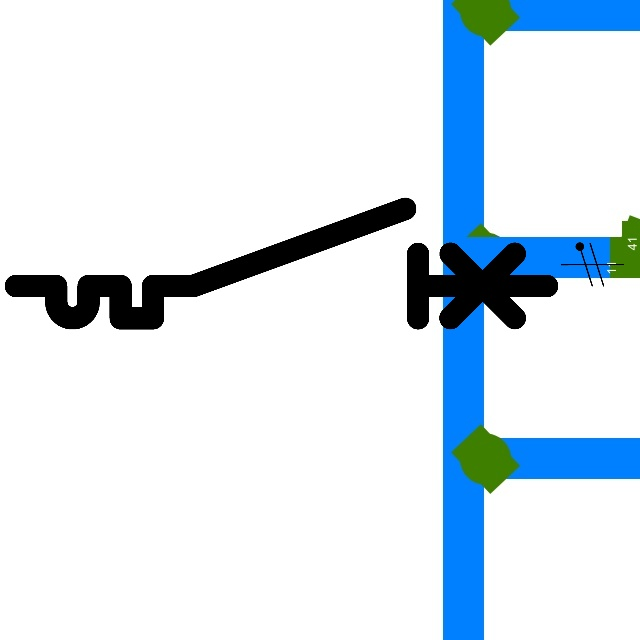interruptor_termomagnetico: (2, 195, 561, 332)
